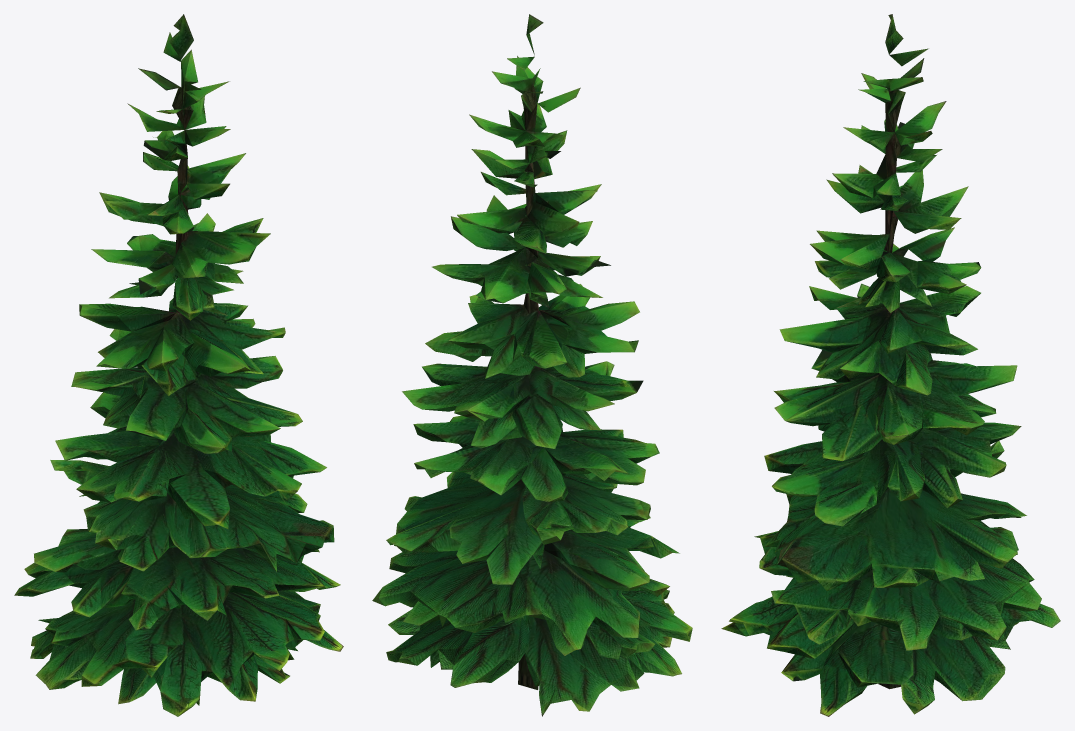
File: tree_pine.glb
3 views of the same model, side by side, from view 1: azimuth 30°, elevation 25°; view 2: azimuth 150°, elevation 25°; view 3: azimuth 270°, elevation 25° (orthographic).
Bounding box in the file's own units: 0.7064 × 1.63 × 0.7484.
Materials: 1 (1 with a texture image).
